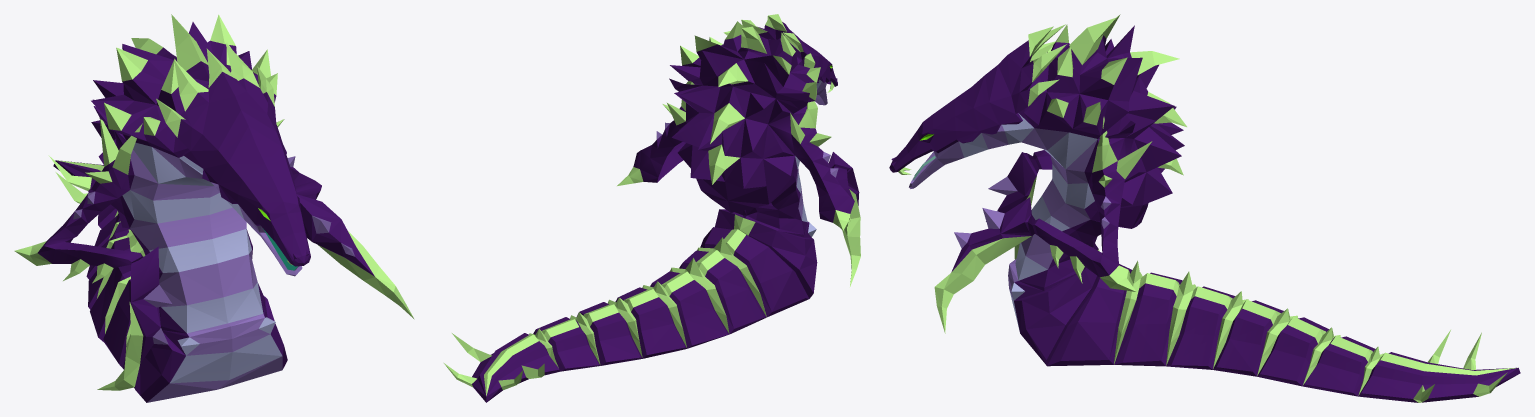
Rendered from Walk (23).obj.
3 renders of one model, left to right at view 1: azimuth 30°, elevation 25°; view 2: azimuth 150°, elevation 25°; view 3: azimuth 270°, elevation 25°, orthographic. The views are drawn at different scales.
Parts seen in each view (by area): view 1: Alien_Serpent; view 2: Alien_Serpent; view 3: Alien_Serpent.
Part boxes in pixels (x1,y1,x2,y2): Alien_Serpent: (14,14,414,402); Alien_Serpent: (444,14,860,402); Alien_Serpent: (889,14,1520,402).
Size of the model in its own units: 216 by 216 by 383.
1 material, 1 textured.
